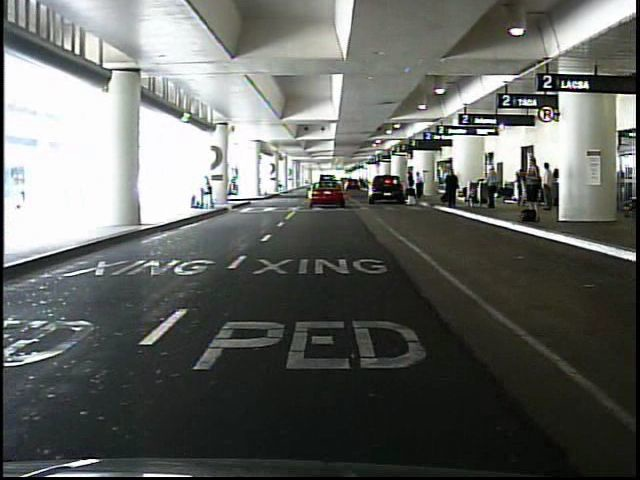person: (522, 155, 544, 211), (541, 162, 555, 213), (486, 164, 500, 211), (445, 168, 460, 209), (200, 173, 216, 211), (405, 170, 418, 205), (442, 166, 453, 204), (415, 170, 425, 199)
